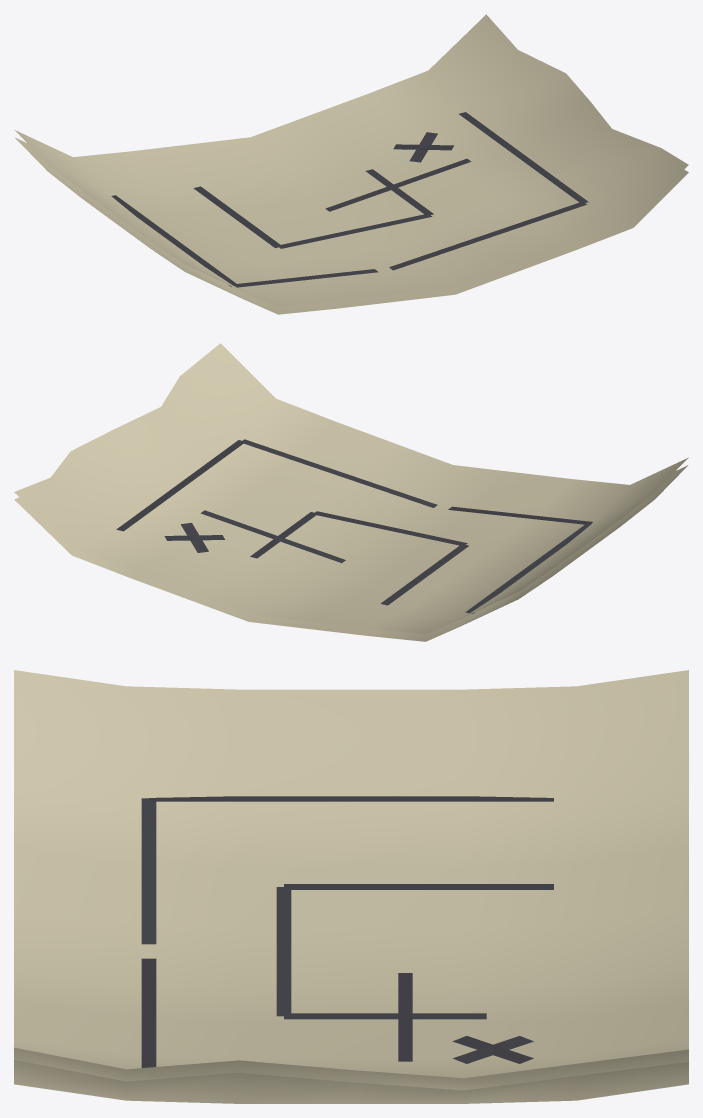
The model's file is map.glb.
3 renders of one model, top to bottom at view 1: azimuth 30°, elevation 25°; view 2: azimuth 150°, elevation 25°; view 3: azimuth 270°, elevation 25°, orthographic. The views are drawn at different scales.
Parts seen in each view (by area): view 1: map; view 2: map; view 3: map.
Boxes of the visible parts, bbox=[...] form: map: bbox=[15, 14, 688, 314]; map: bbox=[14, 343, 688, 641]; map: bbox=[14, 670, 688, 1103].
Bounding box in the file's own units: 0.2044 × 0.0342 × 0.15.
